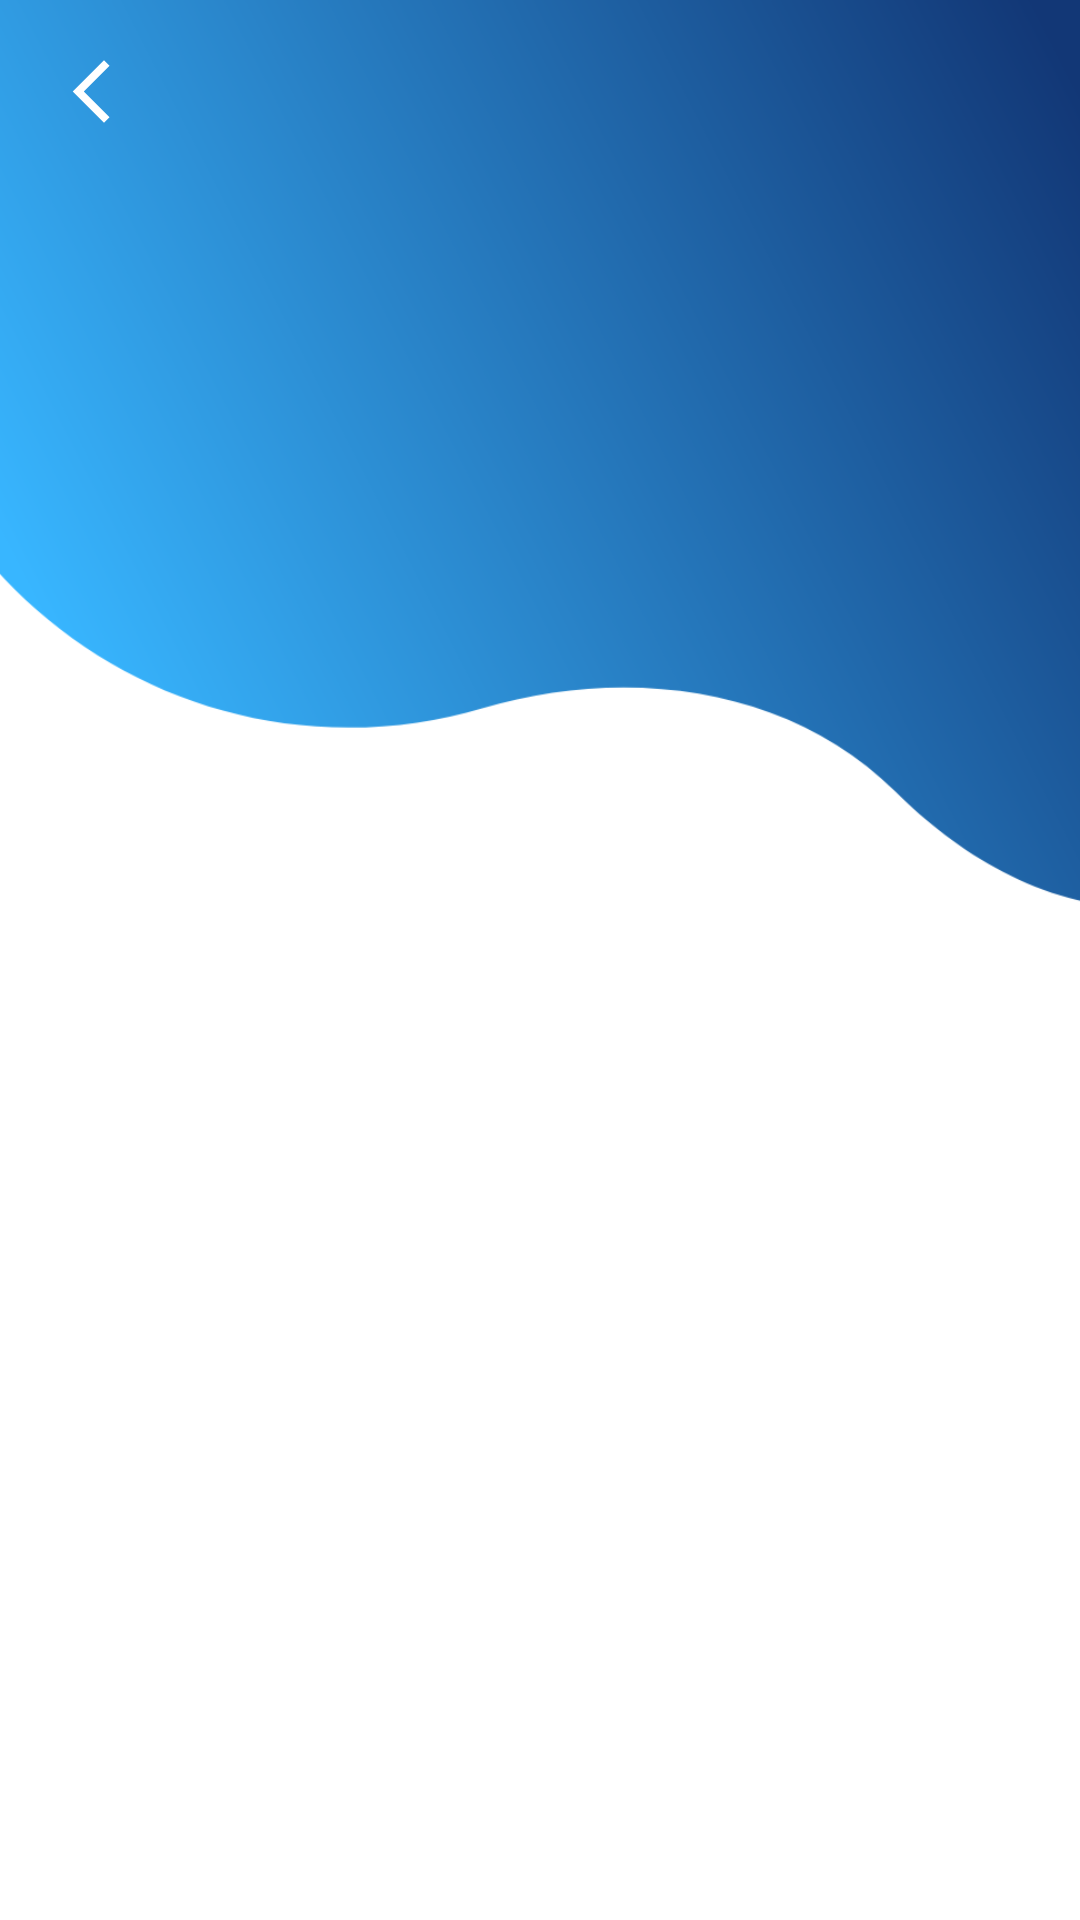

Icon click points for this 1080×1920 phone screenshot, format point (x, y):
arrow back: point (91, 91)
